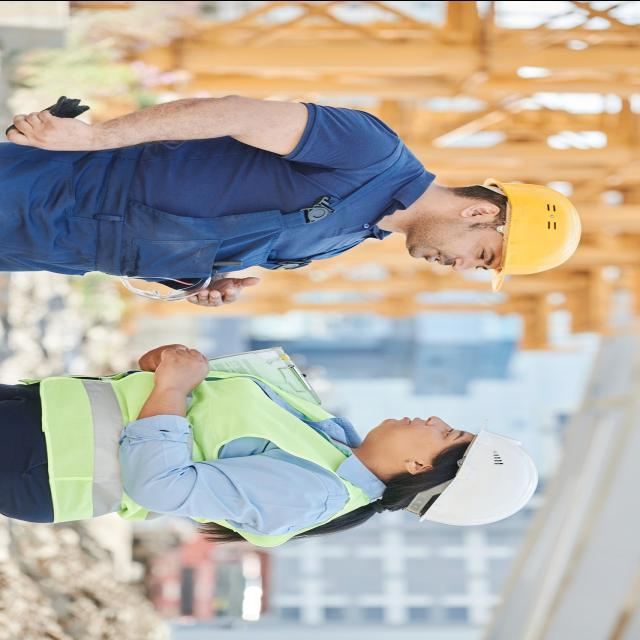Gloves: (0, 92, 103, 144)
Hard Hat: (412, 424, 552, 532), (480, 172, 590, 296)
Reflective Vest: (15, 364, 378, 546)
Safety Glasses: (115, 269, 214, 301)
